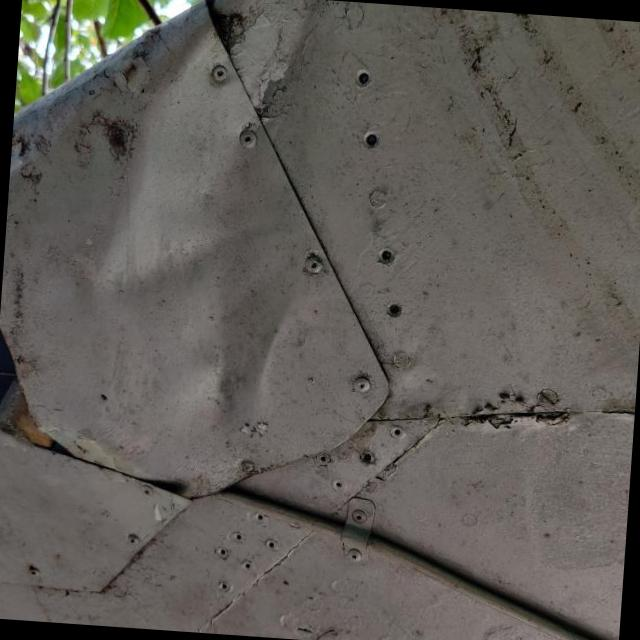Dent: (46, 4, 352, 431)
